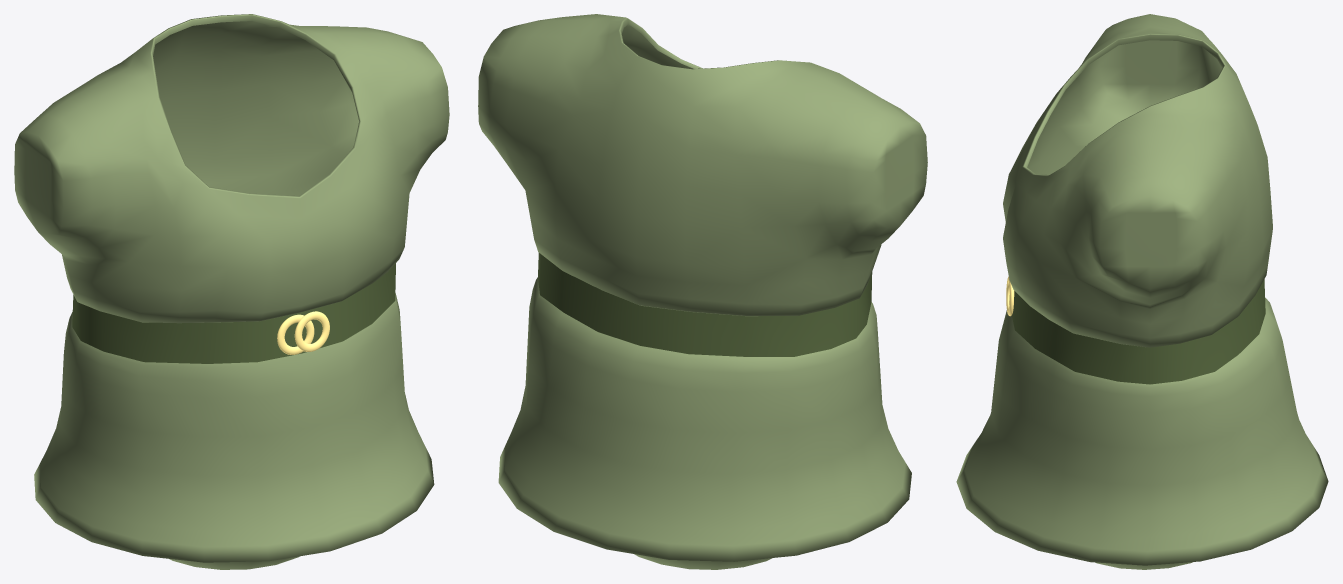
Rendered from clothes_fancy_dress.glb.
The picture shows the model from 3 angles, left to right: view 1: azimuth 30°, elevation 25°; view 2: azimuth 150°, elevation 25°; view 3: azimuth 270°, elevation 25°; orthographic projection. The views are drawn at different scales.
Parts seen in each view (by area): view 1: clothes_fancy_dress; view 2: clothes_fancy_dress; view 3: clothes_fancy_dress.
Boxes of the visible parts, x1,y1,x2,y2 form: clothes_fancy_dress: [14, 14, 449, 569]; clothes_fancy_dress: [478, 14, 927, 569]; clothes_fancy_dress: [956, 14, 1328, 569].
Bounding box in the file's own units: 0.4226 × 0.5266 × 0.3636.
